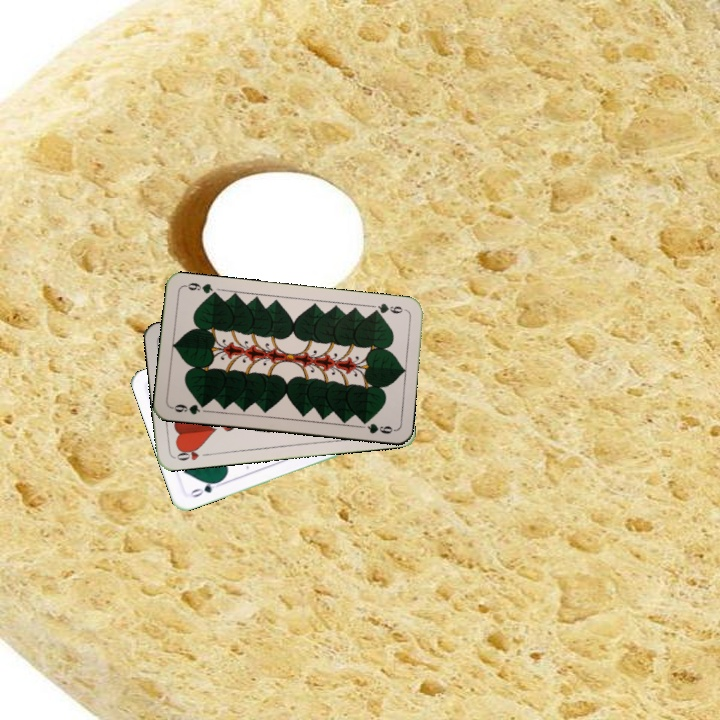G9: (168, 399, 209, 417), (368, 299, 409, 317)
GO: (185, 477, 225, 500)
HO: (171, 443, 212, 463)
